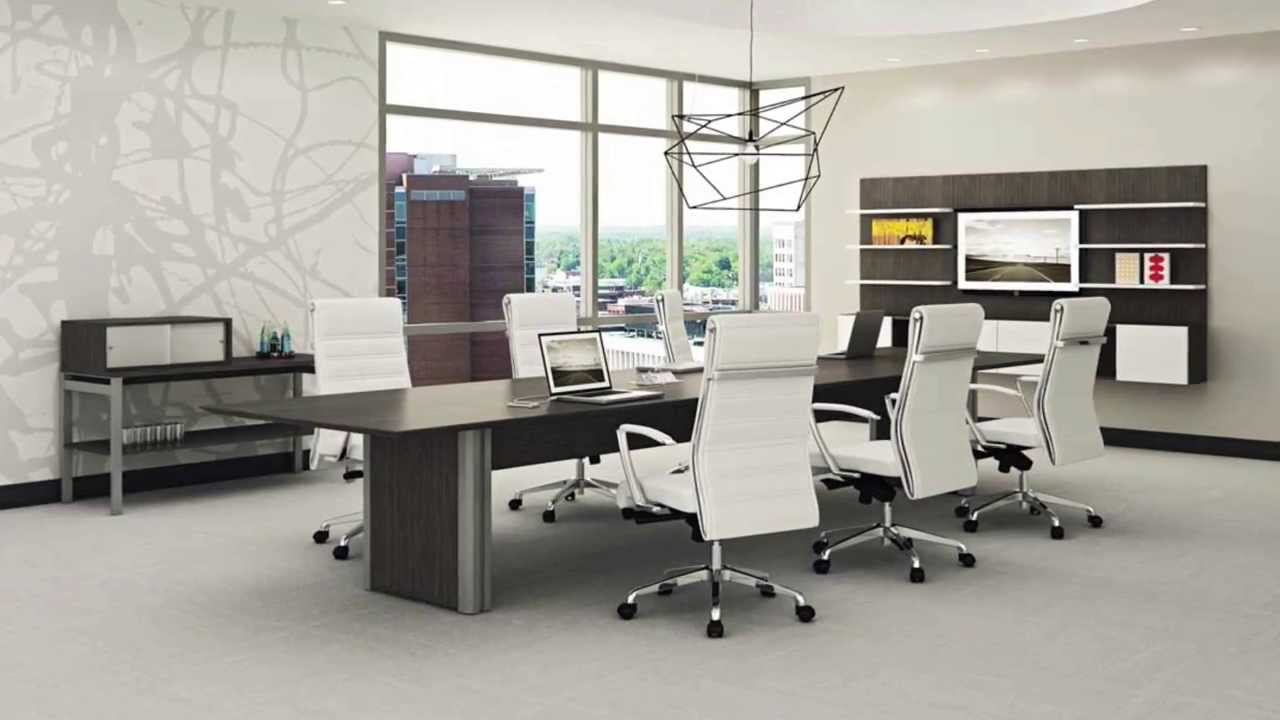conference_table: (201, 347, 1052, 615)
